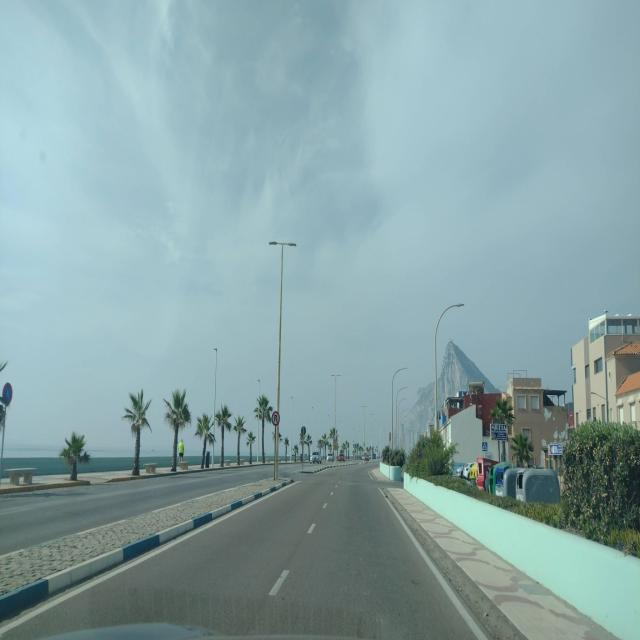forb_stopping: (2, 382, 12, 405)
